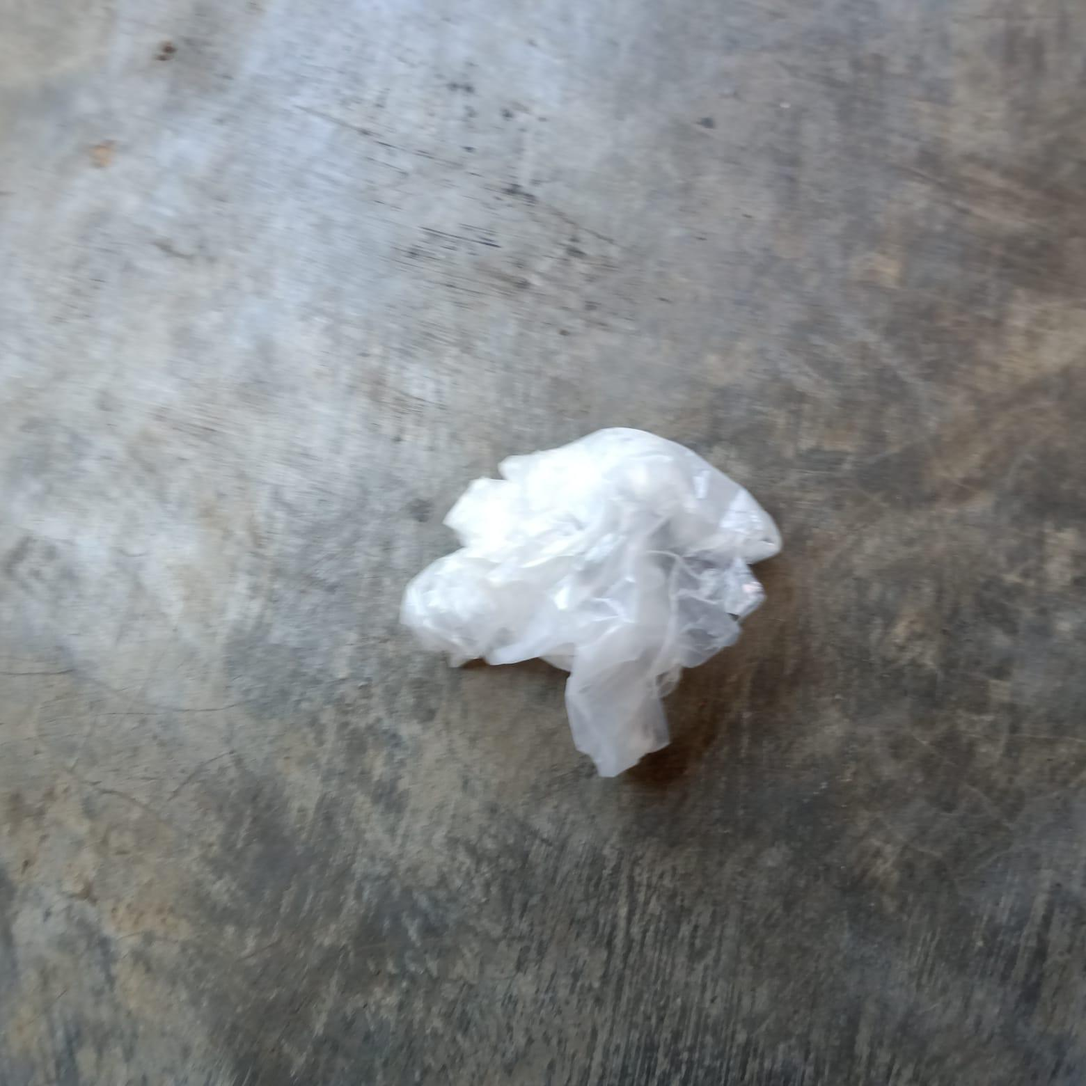Plastik: (398, 427, 779, 779)
